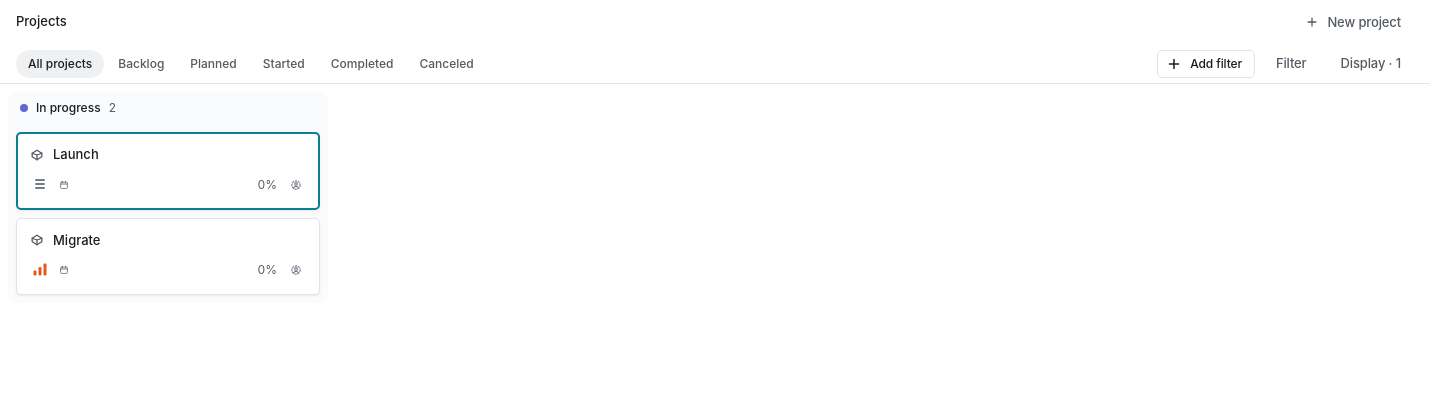
Test case: Projects row priority › opens the picker from a board card too
Click the button named "No priority" at (40, 184), box 29,172 -> 51,194
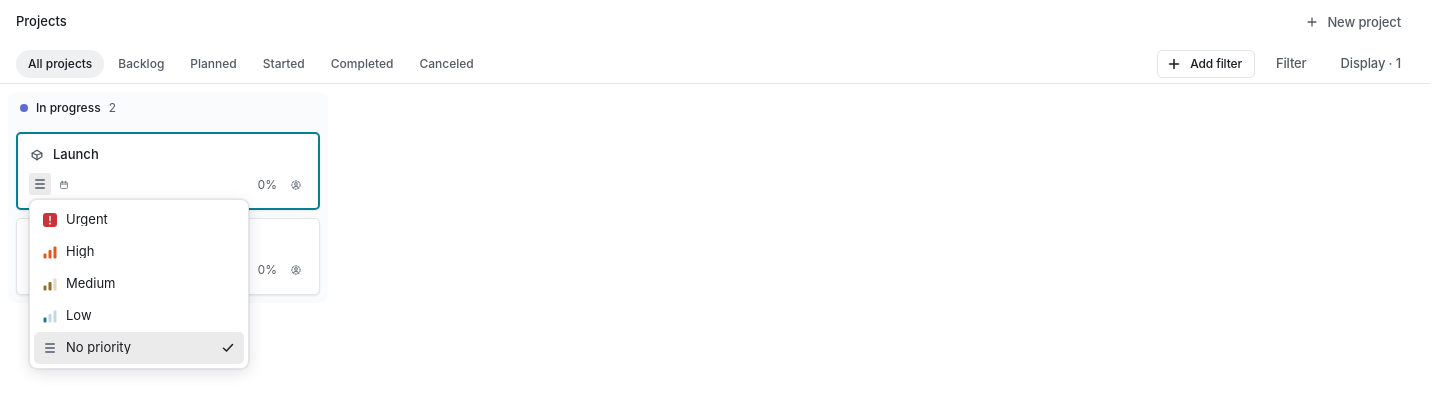
Expected: the menu "priority" is shown, 34,204 -> 244,364
